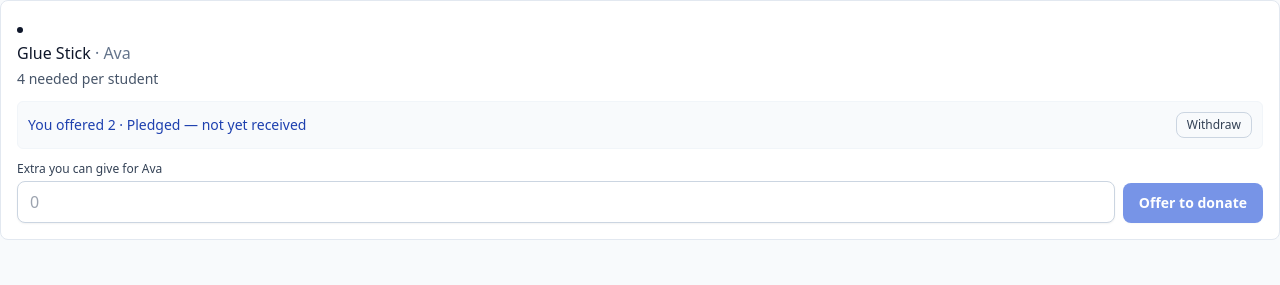
Test: ContributionOfferCard › surfaces a clear message if withdrawing a since-received pledge 409s
The width and height of the screenshot is (1280, 285).
What coordinates should you click on to do the following:
click the button "Withdraw"
I would click on:
 (1214, 125)
Its box is 1176,112 -> 1252,138.
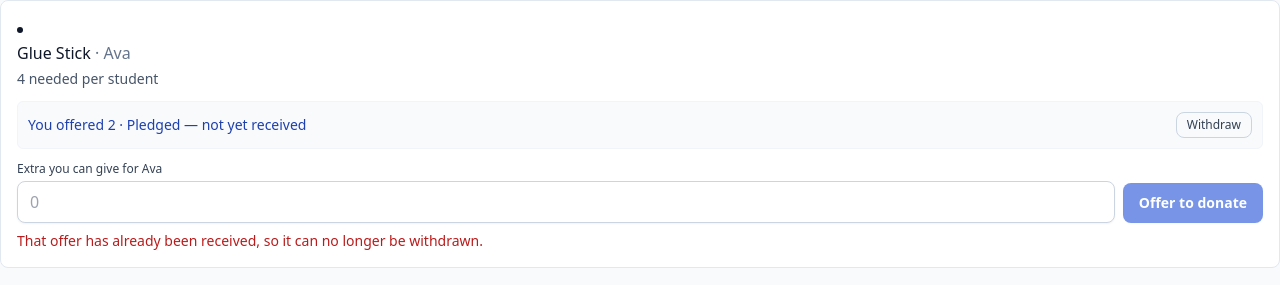
Check: the text "That offer has already been received, so it can no longer be withdrawn." is shown, box 17,231 -> 483,250
